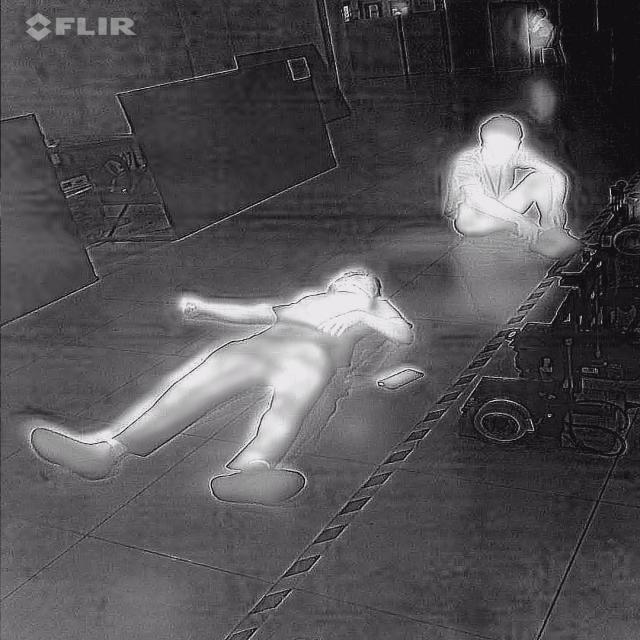Victim: (20, 255, 422, 507), (443, 104, 597, 264)
